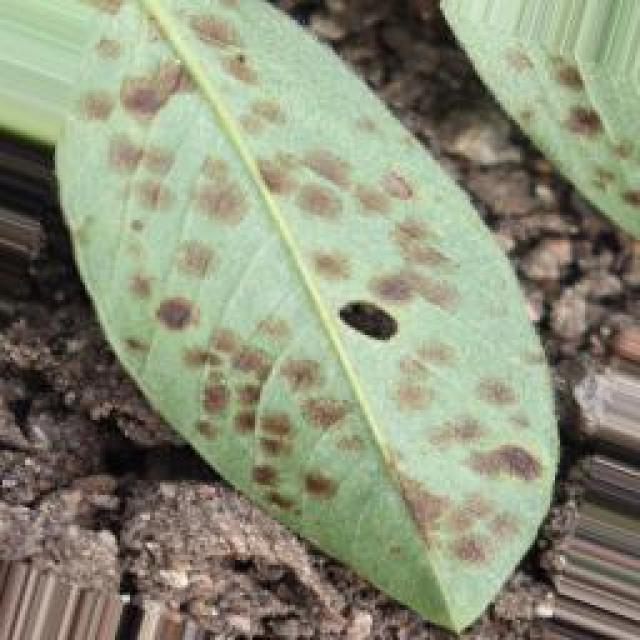Whitefly: (72, 0, 640, 594)
